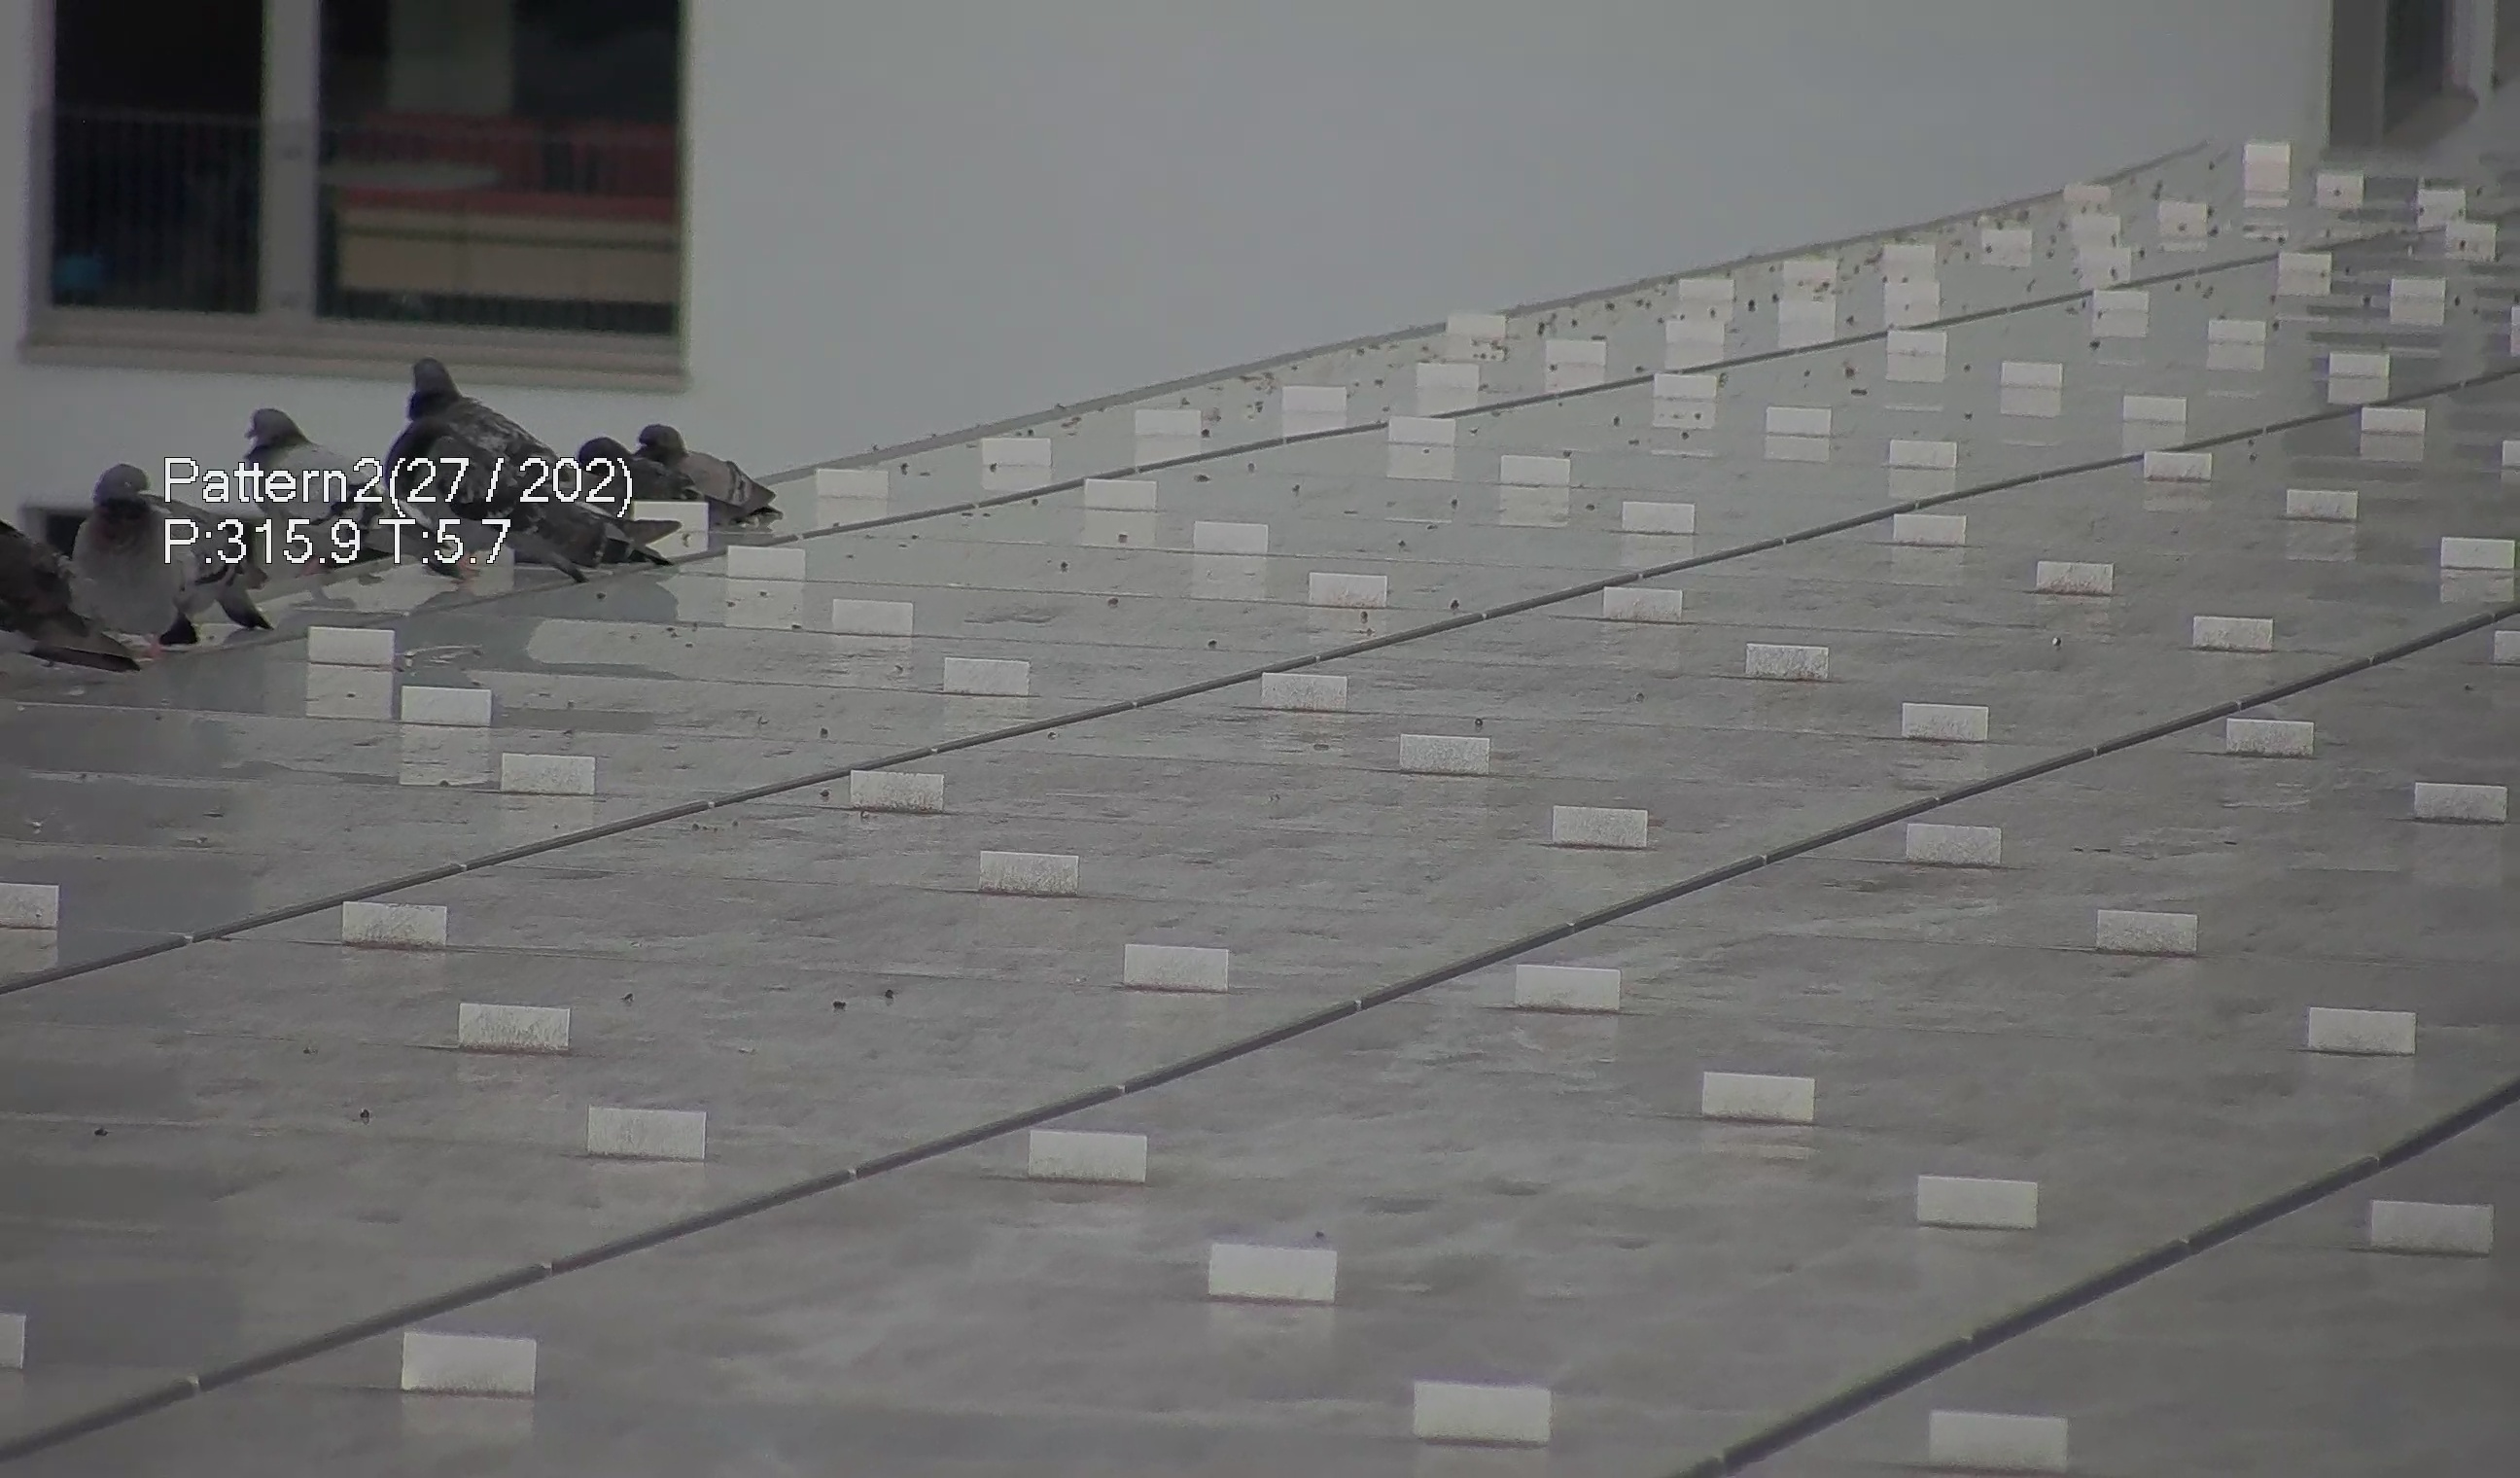Pigeon: (361, 348, 649, 567), (44, 452, 285, 663), (229, 408, 438, 570), (2, 519, 134, 697), (614, 405, 777, 533)
